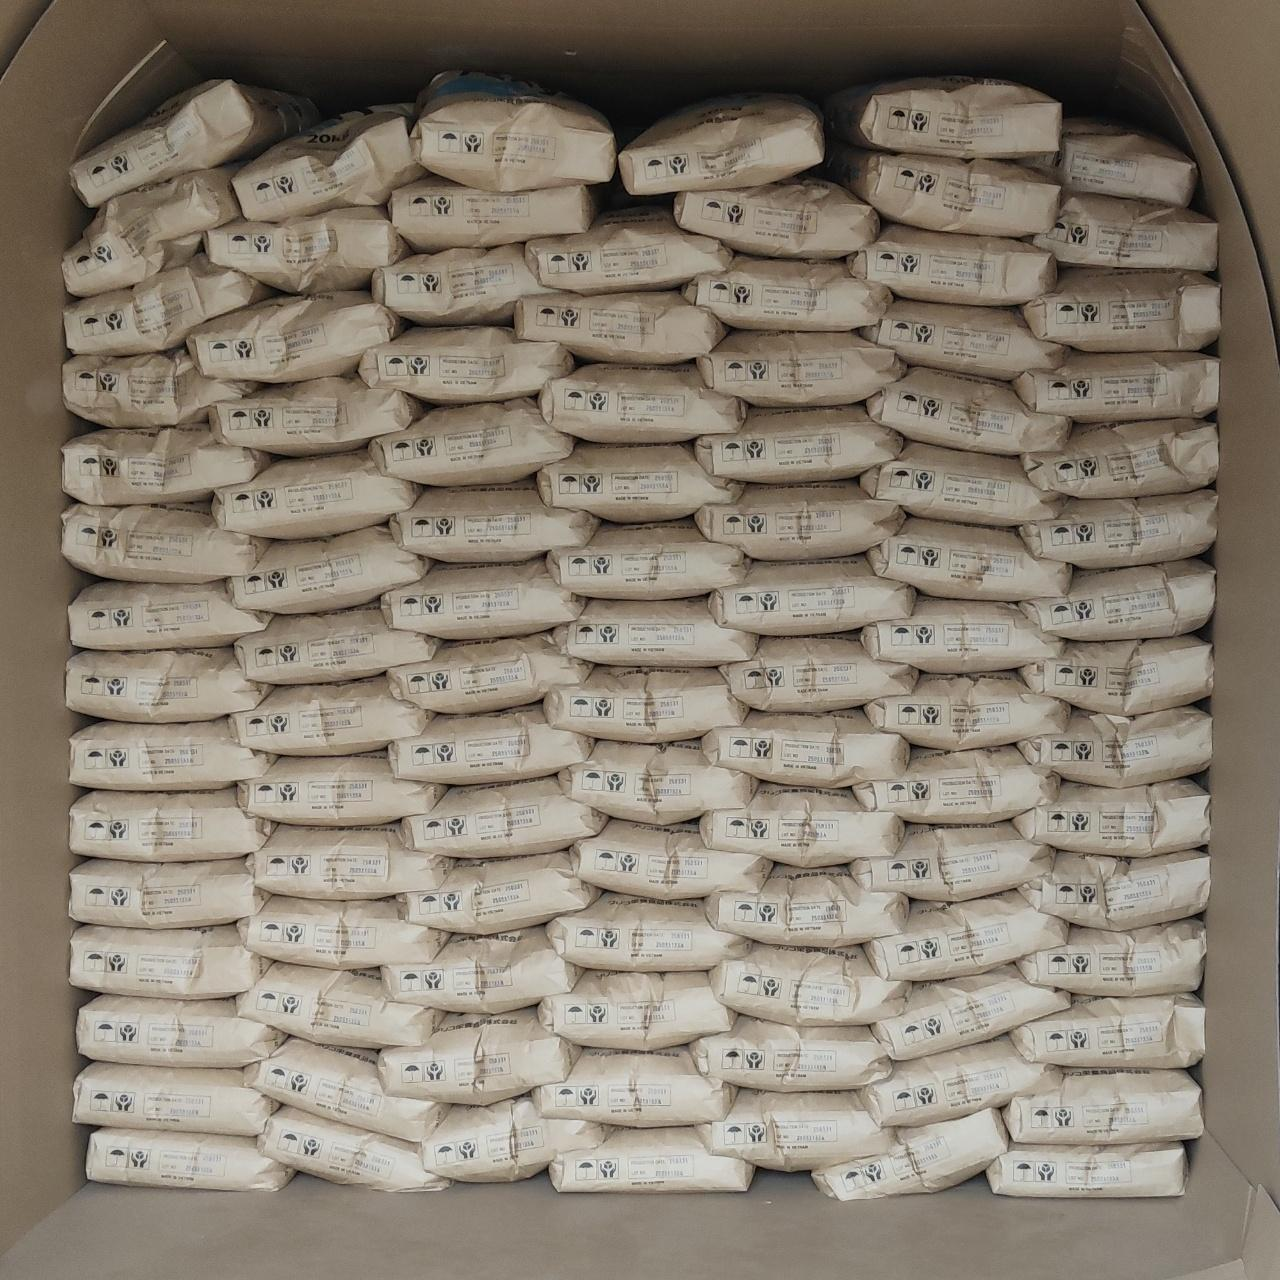sack: (70, 80, 316, 206), (414, 72, 614, 190), (64, 166, 238, 294), (234, 108, 424, 220), (830, 147, 1058, 236), (246, 1040, 445, 1141), (64, 254, 270, 352), (620, 94, 822, 192), (188, 292, 402, 382), (826, 79, 1060, 158), (380, 1008, 576, 1102), (874, 966, 1068, 1058), (869, 892, 1065, 980), (858, 1039, 1060, 1124), (215, 450, 418, 535), (230, 526, 430, 612), (372, 400, 574, 484), (813, 1110, 1006, 1198), (869, 368, 1068, 452), (206, 207, 406, 292), (238, 962, 440, 1046), (527, 210, 731, 292), (862, 442, 1062, 524), (212, 376, 422, 454), (847, 224, 1054, 302), (862, 300, 1064, 380), (384, 928, 578, 1012), (400, 776, 604, 855), (702, 784, 903, 864), (706, 866, 904, 946), (400, 852, 598, 932), (696, 482, 903, 558), (392, 482, 598, 558), (360, 328, 572, 402), (535, 1048, 734, 1126), (1024, 270, 1218, 350), (64, 425, 270, 502), (560, 742, 756, 822), (704, 710, 906, 788), (550, 892, 748, 971), (64, 504, 268, 580), (382, 560, 583, 638), (870, 520, 1070, 598), (570, 821, 770, 898), (712, 944, 908, 1022), (856, 745, 1058, 822), (236, 606, 438, 682), (676, 178, 876, 256), (390, 704, 590, 782), (260, 1107, 445, 1190), (388, 634, 590, 710), (696, 406, 900, 481), (232, 676, 433, 753), (516, 292, 726, 365), (697, 1090, 894, 1167), (852, 824, 1051, 900), (420, 1098, 604, 1180), (1017, 708, 1210, 787), (540, 365, 744, 438), (685, 254, 888, 328), (1020, 560, 1214, 638), (549, 522, 745, 598), (64, 348, 258, 425), (720, 634, 915, 710), (697, 332, 903, 404), (710, 556, 912, 629), (538, 444, 740, 518), (866, 674, 1068, 748), (1020, 636, 1212, 714), (1022, 118, 1196, 204), (1014, 778, 1208, 855), (1020, 490, 1214, 566), (546, 668, 745, 742), (690, 1016, 890, 1090), (864, 595, 1060, 670), (392, 178, 595, 250), (72, 719, 274, 790), (240, 896, 445, 966), (76, 1062, 278, 1133), (72, 788, 270, 860), (1017, 850, 1206, 926), (1024, 420, 1218, 493), (66, 648, 268, 719), (542, 971, 731, 1046), (1012, 994, 1204, 1068), (374, 244, 554, 322), (240, 753, 444, 822), (72, 926, 268, 998), (1006, 1070, 1201, 1142), (79, 996, 284, 1064), (248, 826, 448, 896), (1017, 920, 1204, 994), (1014, 352, 1216, 420), (1032, 196, 1214, 270), (552, 598, 756, 663), (70, 858, 264, 926), (70, 583, 270, 646), (550, 1128, 750, 1190), (88, 1128, 292, 1189), (988, 1144, 1186, 1196)
